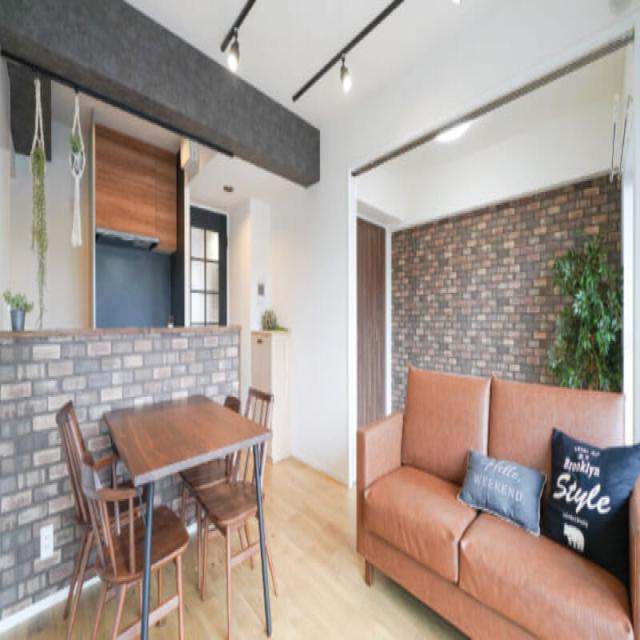vintage chair: (52, 398, 144, 611), (202, 384, 276, 632)
vintage desk: (94, 393, 272, 638)
vintage sofa: (357, 361, 640, 640)
